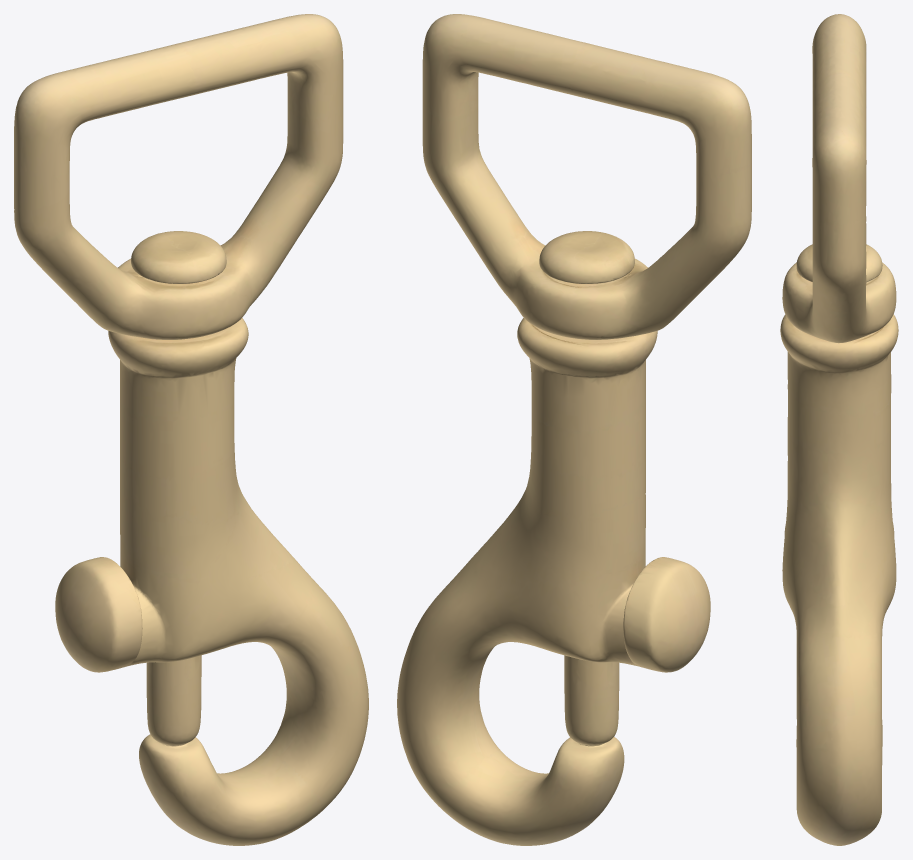
Rendered from kyn3d-mosqueton-perno.glb.
3 renders of one model, left to right at view 1: azimuth 30°, elevation 25°; view 2: azimuth 150°, elevation 25°; view 3: azimuth 270°, elevation 25°, orthographic. The views are drawn at different scales.
Parts seen in each view (by area): view 1: mesh_node; view 2: mesh_node; view 3: mesh_node.
Part boxes in pixels (x1,y1,x2,y2): mesh_node: [14, 14, 368, 845]; mesh_node: [397, 14, 751, 845]; mesh_node: [780, 14, 898, 845].
Bounding box in the file's own units: 0.8494 × 1.9 × 0.278.
Materials: 1 (1 with a texture image).
